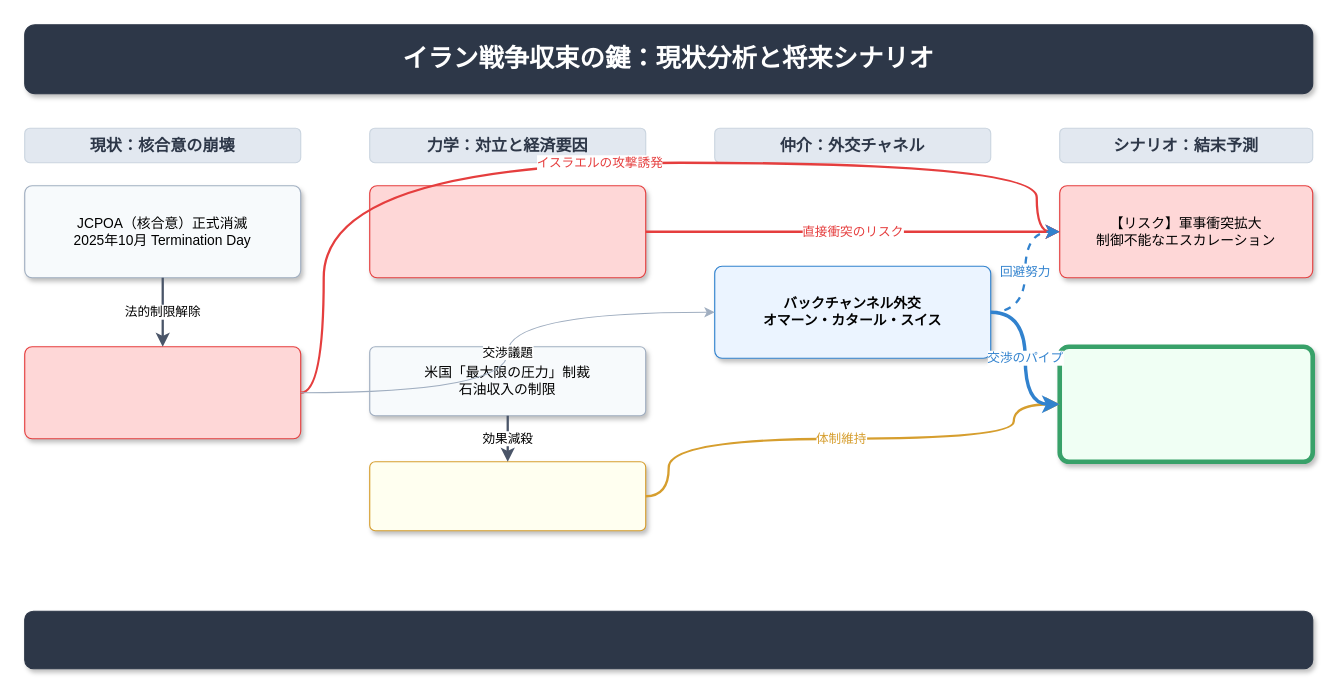
This 1342x697 diagram has some shape labels left out. The centre of each missing label's shape, as x and y in pixels:
【現実解】危機管理 部分的合意の積み重ね: pixel 1186 405
中国の石油購入（抜け穴） 体制維持の経済的命綱: pixel 508 497
代理勢力（Proxies）の攻撃 フーシ派・ヒズボラ・PMF: pixel 508 233
核ブレークアウトの危機 濃縮ウラン貯蔵増・IAEA監視外: pixel 163 394
結論：包括的合意は困難。地域大国の仲介による「管理された緊張」の維持が唯一の現実的な安定化ルートである。: pixel 669 641
